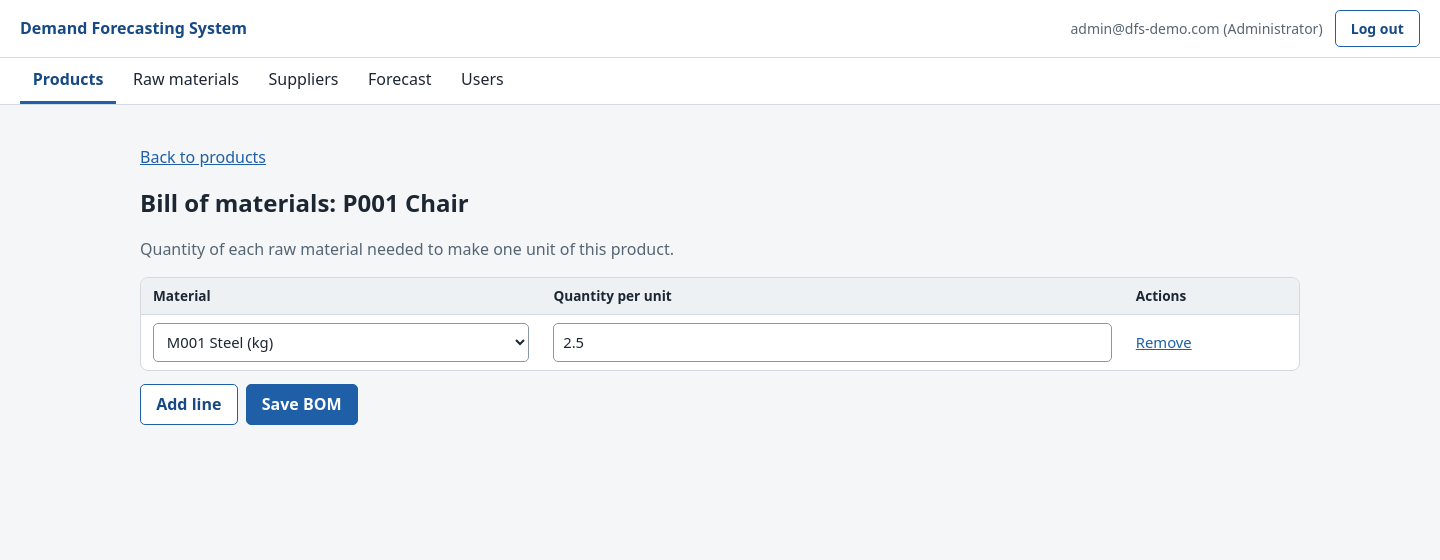
Test case: bill of materials › asks for a material before saving
This screenshot has width=1440, height=560.
Click the button "Add line": (189, 404) [140,384,238,425]
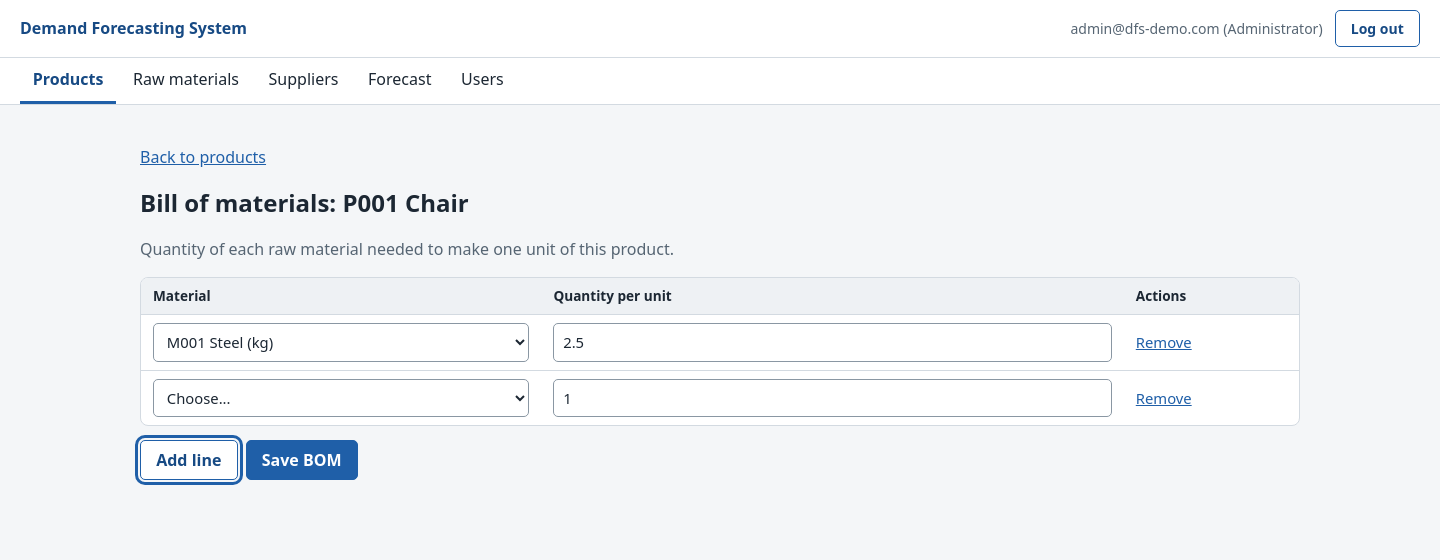
Click the button "Save BOM": (302, 460) [246,440,358,480]
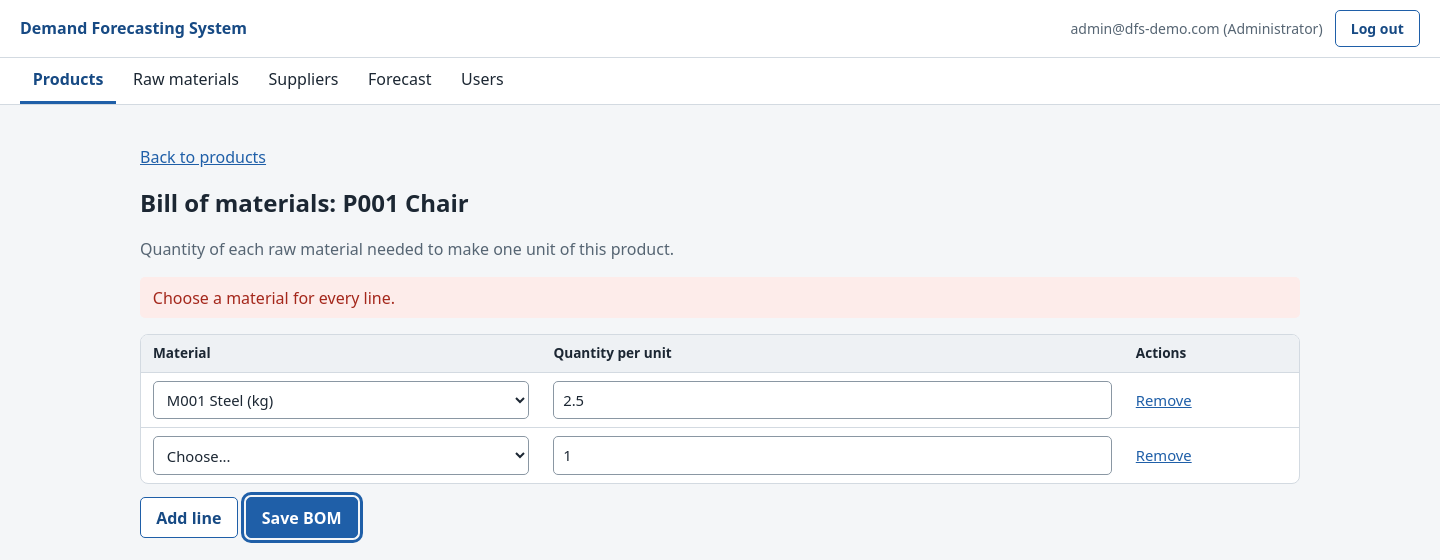
Check: the message shows "Choose a material", box [153,286,395,308]
